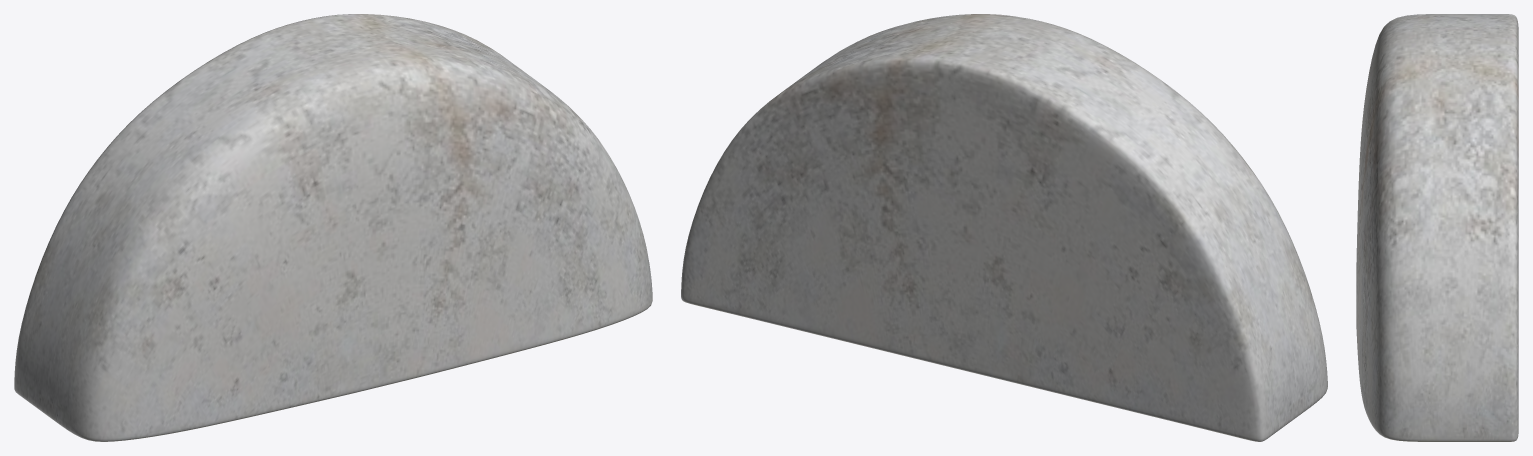
The model's file is Cheese3.obj.
The picture shows the model from 3 angles, left to right: view 1: azimuth 30°, elevation 25°; view 2: azimuth 150°, elevation 25°; view 3: azimuth 270°, elevation 25°; orthographic projection. The views are drawn at different scales.
Parts seen in each view (by area): view 1: Cheese3; view 2: Cheese3; view 3: Cheese3.
Part boxes in pixels (x1=…): Cheese3: x1=14, y1=14, x2=652, y2=441; Cheese3: x1=681, y1=14, x2=1327, y2=441; Cheese3: x1=1356, y1=14, x2=1518, y2=441.
Bounding box in the file's own units: 0.2322 × 0.1164 × 0.0624.
1 material, 1 textured.
